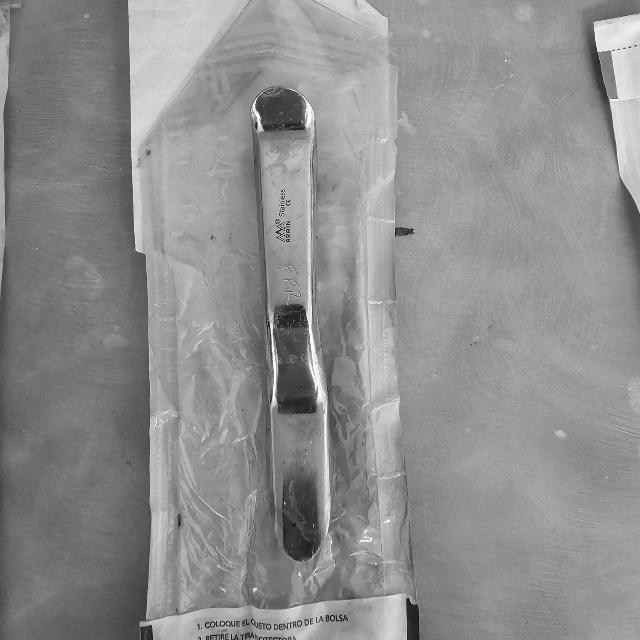separador: (251, 87, 330, 562)
